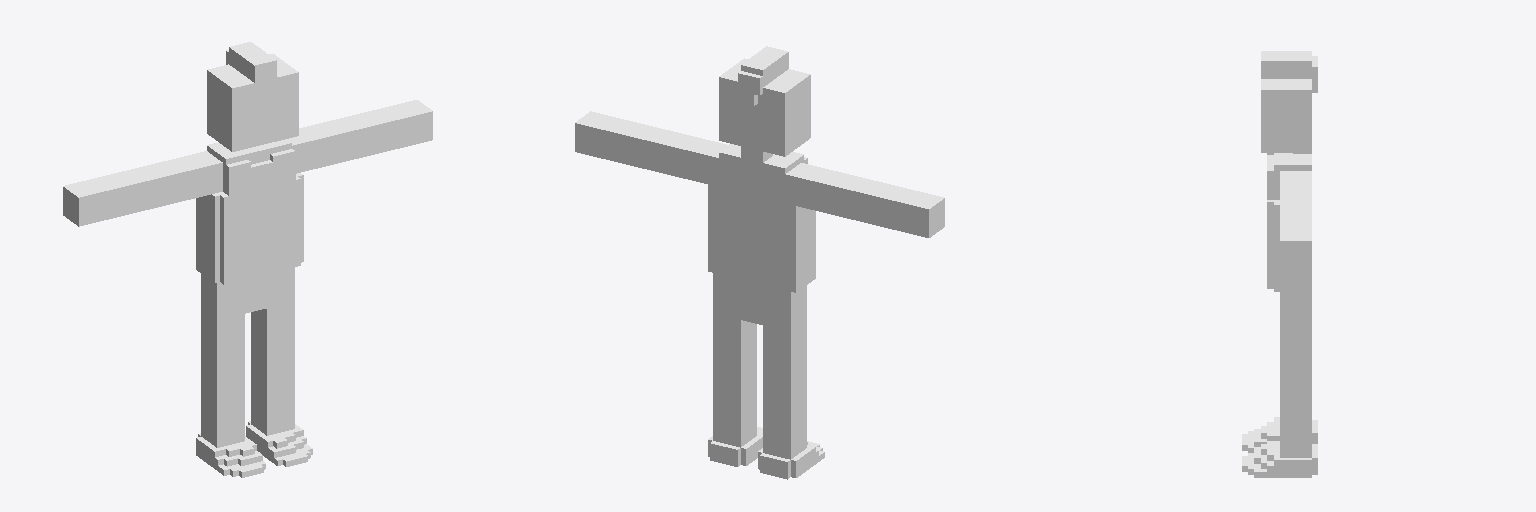
The model's file is punk.obj.
The picture shows the model from 3 angles: view 1: azimuth 30°, elevation 25°; view 2: azimuth 150°, elevation 25°; view 3: azimuth 270°, elevation 25°; orthographic projection.
Parts seen in each view (by area): view 1: object 1; view 2: object 1; view 3: object 1.
Boxes of the visible parts, box(x1,y1,x2,y2) form: object 1: box(63, 42, 432, 477); object 1: box(575, 46, 944, 479); object 1: box(1242, 51, 1317, 477).
Bounding box in the file's own units: 6.4 × 6.9 × 1.2.